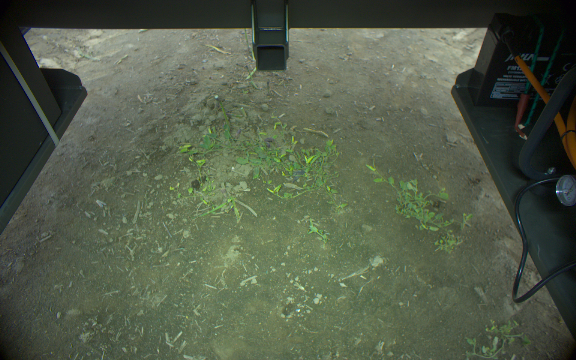aspa: (215, 99, 230, 126), (245, 63, 259, 90), (243, 27, 254, 59), (264, 78, 270, 94)
